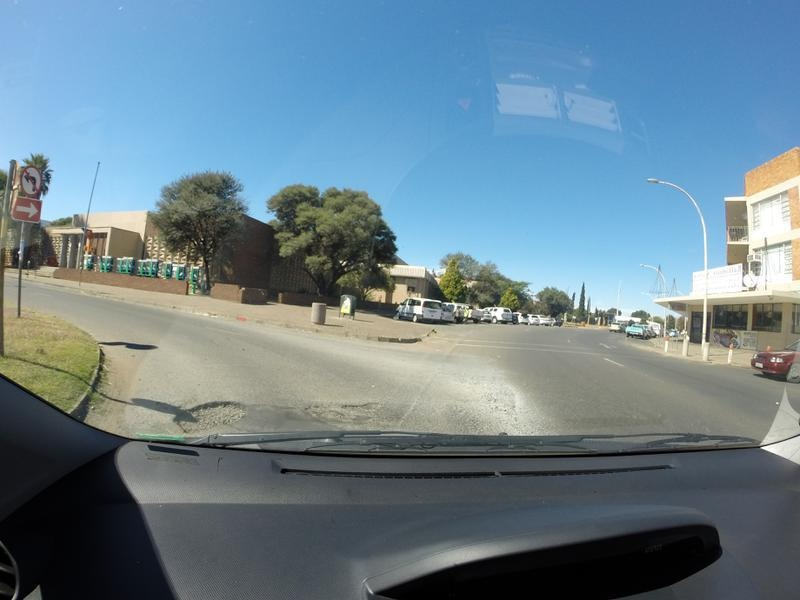pothole: (171, 394, 249, 438), (295, 391, 381, 425)
